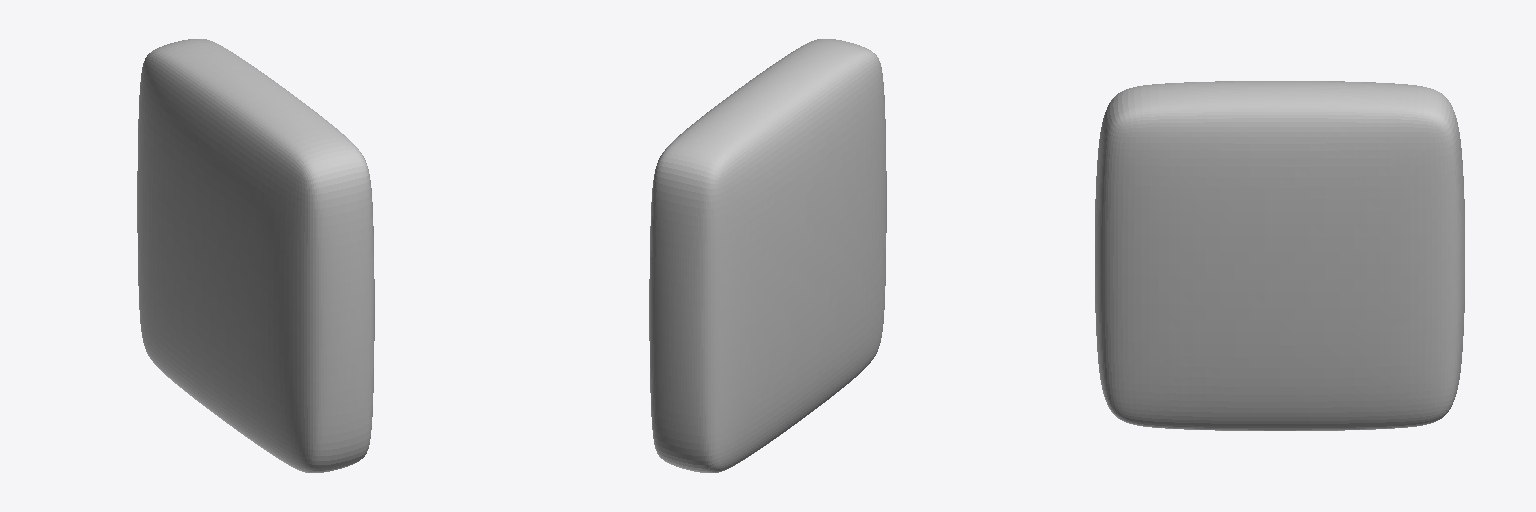
Rendered from steelycube.obj.
3 views of the same model, side by side, from view 1: azimuth 30°, elevation 25°; view 2: azimuth 150°, elevation 25°; view 3: azimuth 270°, elevation 25° (orthographic).
Parts seen in each view (by area): view 1: p_pCube1; view 2: p_pCube1; view 3: p_pCube1.
Boxes of the visible parts, x1=… form: p_pCube1: x1=137, y1=39, x2=374, y2=472; p_pCube1: x1=649, y1=39, x2=886, y2=472; p_pCube1: x1=1095, y1=81, x2=1464, y2=430.
Size of the model in its own units: 0.2878 by 0.9878 by 0.9878.